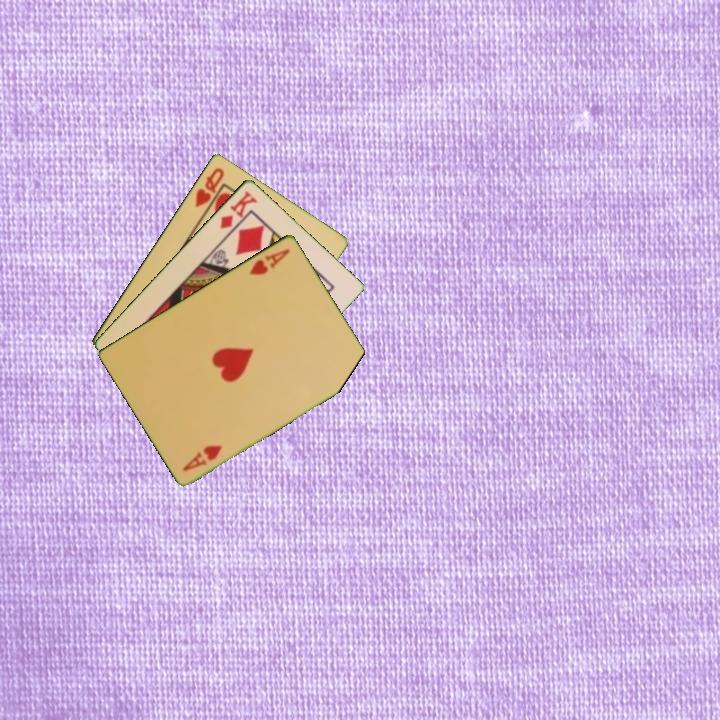Ah: (245, 245, 293, 278), (179, 441, 225, 474)
Kd: (216, 187, 260, 231)
Qh: (191, 164, 227, 210)
